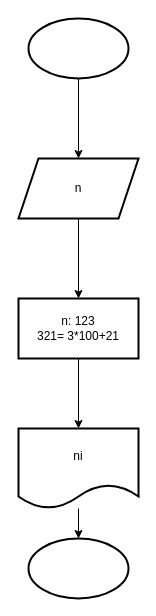
This 156x616 diagram has some shape labels left out. The shapes that lost their labels are listed below. From the top down, each one's centre as x and y in pixels, then its label:
At point (78, 48): "inicio".
At point (78, 568): "fin".
